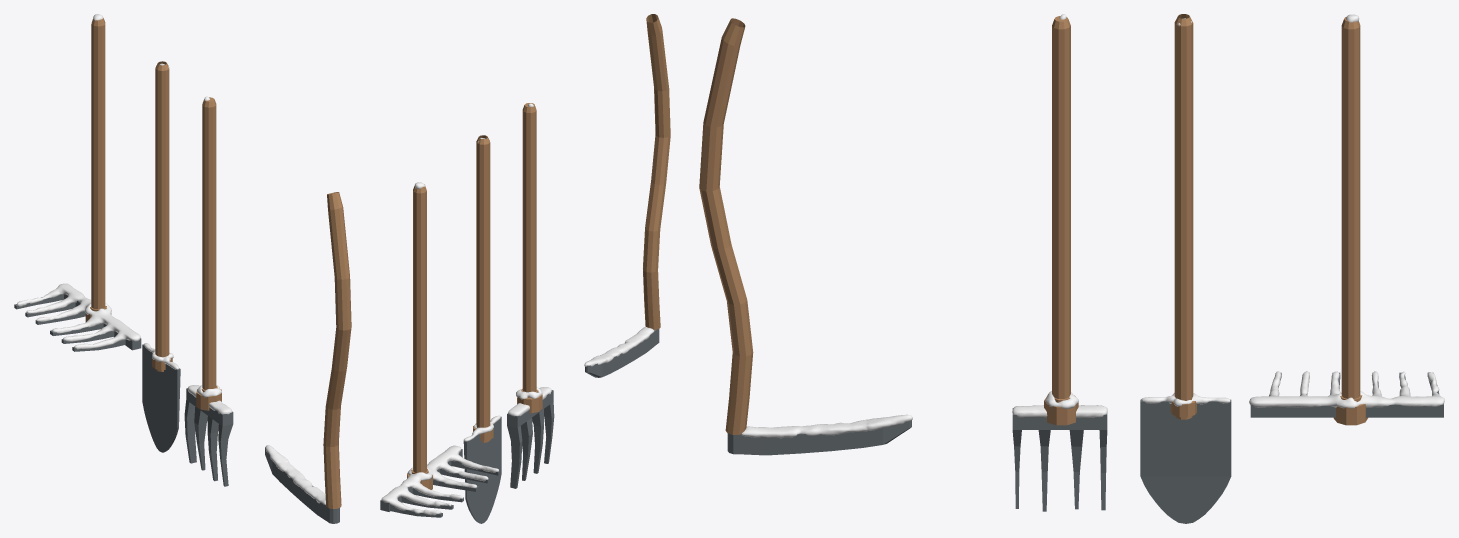
Rendered from FarmTooldSNOW.fbx.
3 views of the same model, side by side, from view 1: azimuth 30°, elevation 25°; view 2: azimuth 150°, elevation 25°; view 3: azimuth 270°, elevation 25° (orthographic). The views are drawn at different scales.
Parts seen in each view (by area): view 1: Cylinder.002, Cylinder, Cylinder.004, Cylinder.003, SnowBall.003, SnowBall.004, SnowBall.001; view 2: Cylinder, Cylinder.002, Cylinder.004, Cylinder.003, SnowBall.003, SnowBall.004, SnowBall.001; view 3: Cylinder.002, Cylinder.004, Cylinder, Cylinder.003, SnowBall.003, SnowBall.004, SnowBall.001.
Part boxes in pixels (box(x1,y1,x2,y2)): Cylinder.002: box(142, 61, 180, 452); Cylinder: box(184, 97, 233, 486); Cylinder.004: box(265, 192, 351, 523); Cylinder.003: box(14, 18, 141, 351); SnowBall.003: box(17, 14, 140, 349); SnowBall.004: box(265, 445, 325, 504); SnowBall.001: box(187, 96, 232, 414); Cylinder: box(507, 103, 554, 488); Cylinder.002: box(463, 135, 501, 523); Cylinder.004: box(585, 14, 670, 377); Cylinder.003: box(380, 184, 500, 517); SnowBall.003: box(381, 182, 498, 515); SnowBall.004: box(584, 326, 654, 366); SnowBall.001: box(508, 103, 551, 416); Cylinder.002: box(1140, 14, 1231, 523); Cylinder.004: box(699, 18, 911, 455); Cylinder: box(1012, 16, 1107, 511); Cylinder.003: box(1250, 17, 1443, 425); SnowBall.003: box(1249, 14, 1444, 408); SnowBall.004: box(741, 414, 912, 438); SnowBall.001: box(1012, 14, 1107, 417).
Bounding box in the file's own units: 66.52 × 384 × 510.
